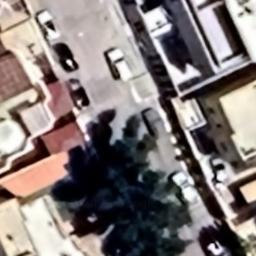SUV: (168, 169, 201, 210), (103, 45, 132, 83), (140, 104, 166, 140), (206, 238, 232, 256)
sedan: (50, 42, 80, 73), (33, 8, 61, 40), (64, 77, 92, 109)
